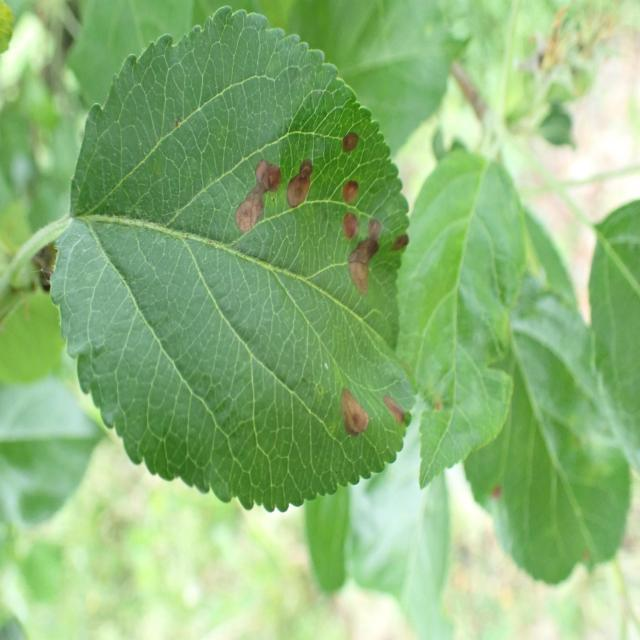Black Rot: (235, 148, 282, 235), (348, 205, 382, 312), (334, 381, 374, 451), (286, 141, 314, 218), (381, 376, 410, 435), (390, 213, 410, 275), (340, 214, 365, 248), (342, 182, 364, 208), (341, 122, 360, 152)
